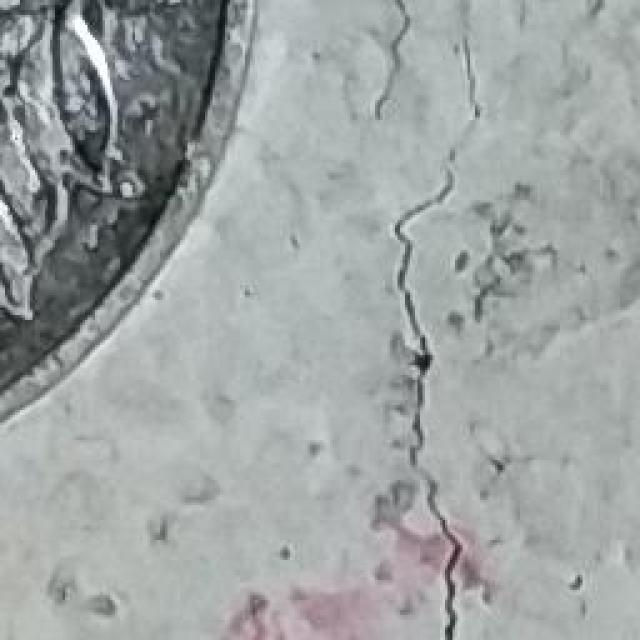Longitudinal: (345, 0, 483, 640)
Rippled: (0, 0, 253, 433)
